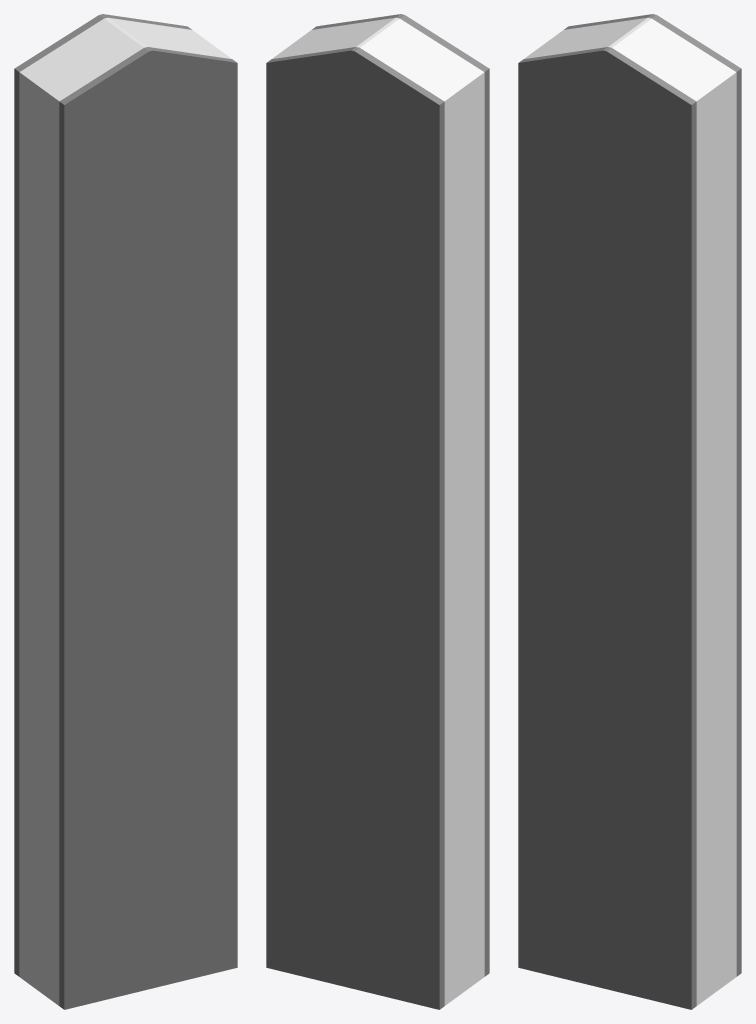
The model's file is updownchunk.fbx.
3 renders of one model, left to right at view 1: azimuth 30°, elevation 25°; view 2: azimuth 150°, elevation 25°; view 3: azimuth 330°, elevation 25°, orthographic.
Parts seen in each view (by area): view 1: updownchunk; view 2: updownchunk; view 3: updownchunk.
Part boxes in pixels (x1=…): updownchunk: x1=14, y1=14, x2=237, y2=1009; updownchunk: x1=266, y1=14, x2=489, y2=1009; updownchunk: x1=518, y1=14, x2=741, y2=1009.
Bounding box in the file's own units: 100 × 50 × 518.
